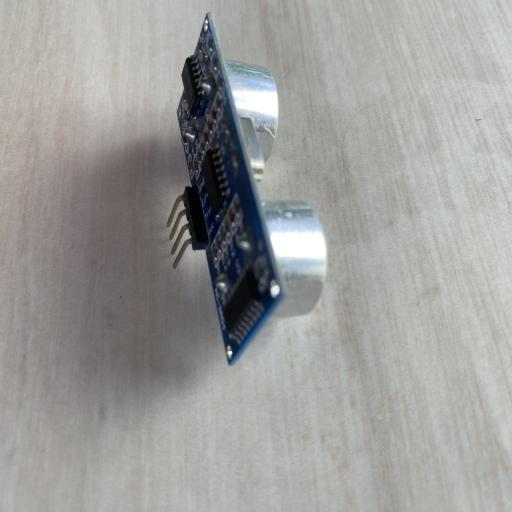Ultrasonic Sensor: (167, 9, 328, 366)
